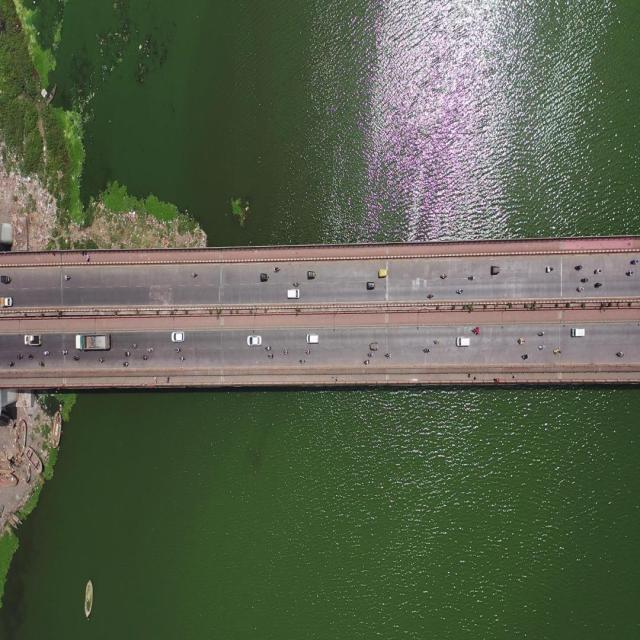3W: (258, 270, 272, 286), (0, 272, 14, 286), (364, 276, 376, 292), (368, 339, 381, 352), (379, 263, 388, 281), (490, 265, 504, 275), (307, 270, 319, 281)
Cars: (246, 333, 262, 348), (306, 330, 320, 346), (570, 326, 587, 339), (454, 336, 471, 347), (172, 329, 185, 342), (287, 288, 300, 300)
M2W: (551, 347, 564, 359), (521, 348, 530, 364), (574, 284, 586, 295), (624, 270, 638, 279), (471, 324, 481, 336), (40, 348, 51, 358), (190, 270, 199, 282), (422, 344, 431, 356), (593, 281, 605, 290), (26, 352, 36, 362), (516, 336, 526, 346), (545, 264, 555, 274), (8, 358, 17, 369), (538, 341, 546, 353), (614, 349, 626, 357), (434, 335, 441, 348), (122, 359, 132, 368), (146, 345, 156, 354), (292, 278, 301, 288), (536, 328, 545, 338), (579, 275, 589, 284), (364, 358, 371, 370), (73, 353, 82, 362), (467, 273, 475, 283), (594, 266, 602, 276), (62, 273, 73, 280), (267, 350, 274, 361), (38, 360, 47, 368), (140, 354, 149, 362), (273, 266, 282, 274), (438, 272, 447, 280), (574, 263, 582, 272), (630, 258, 639, 266), (124, 348, 131, 358), (299, 354, 305, 365), (176, 345, 184, 353), (384, 352, 392, 360), (455, 288, 464, 295), (177, 356, 187, 362), (283, 346, 289, 356), (368, 351, 374, 361), (61, 349, 69, 356), (426, 292, 434, 299), (132, 342, 138, 351), (266, 344, 272, 353), (305, 348, 312, 355), (98, 355, 104, 363), (15, 354, 24, 359)
Truck: (75, 330, 110, 349), (24, 327, 42, 346), (0, 292, 17, 308)
